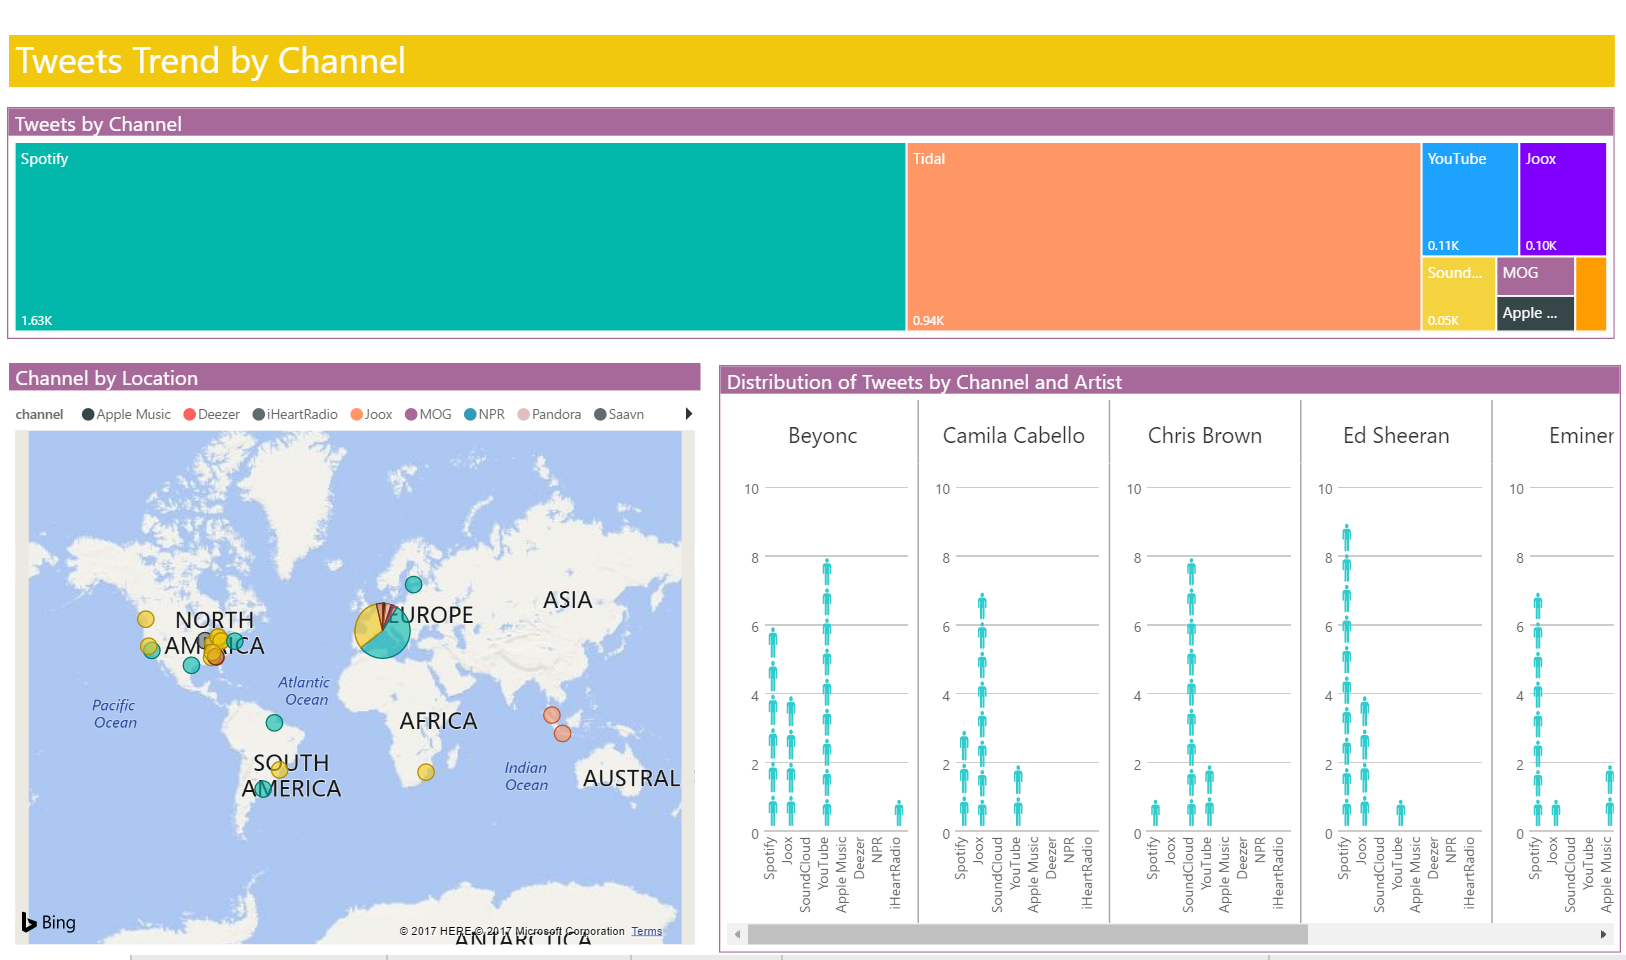

What the dashboard file says about the page in this screenshot:
{"tool":"powerbi","page":{"name":"Channel Trends","canvas":[1280,720],"ordinal":3},"visuals":[{"type":"PBI_CV_73744D90_4DC9_4F18_8BA5_EE8FA5C98035","fields":{"Category":["all_data3.channel"],"Values":["all_data3.created_at"],"Columns":["all_data3.billboard_top_100_artist.name"]},"box":[567.8,258.8,707.5,461.2],"z":0},{"type":"treemap","fields":{"Group":["all_data3.channel"],"Values":["all_data3.created_at"]},"box":[9.4,56.5,1261.2,182],"z":2},{"type":"map","fields":{"Series":["all_data3.channel"],"Size":["all_data3.created_at"],"Category":["all_data3.place_name"]},"box":[11,257.3,542.7,461.2],"z":4},{"type":"textbox","box":[11,0,1259.6,40.8],"z":6}]}

Visuals, with their boxes on the page's 1280x720 design canvas (x1, y1, x2, y2). These are canvas units, not pixel positions in the 1626x960 screenshot, which may show the page scaled, cropped or inside an application window:
PBI_CV_73744D90_4DC9_4F18_8BA5_EE8FA5C98035 - all_data3.channel x all_data3.created_at: [left=568, top=259, right=1275, bottom=720]
treemap - all_data3.channel x all_data3.created_at: [left=9, top=56, right=1271, bottom=238]
map - all_data3.channel x all_data3.created_at: [left=11, top=257, right=554, bottom=718]
textbox: [left=11, top=0, right=1271, bottom=41]
